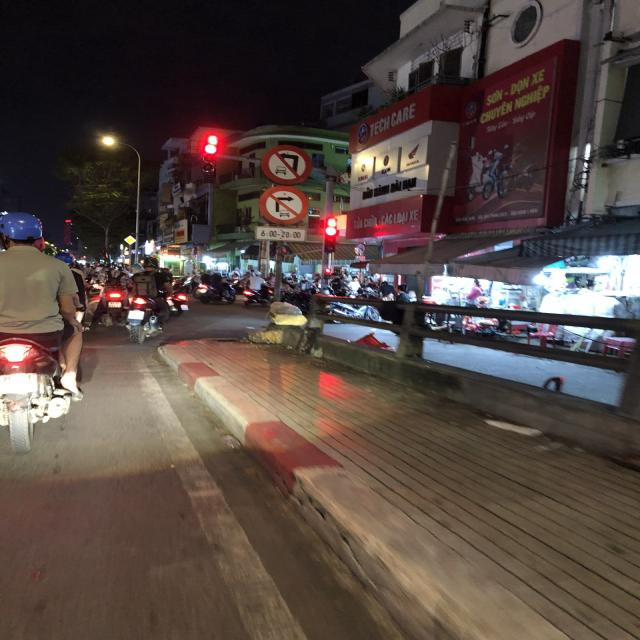Bien bao cam xe o to re phai: (256, 183, 314, 226)
Bien bao cam xe o to re trai: (258, 142, 315, 186)
